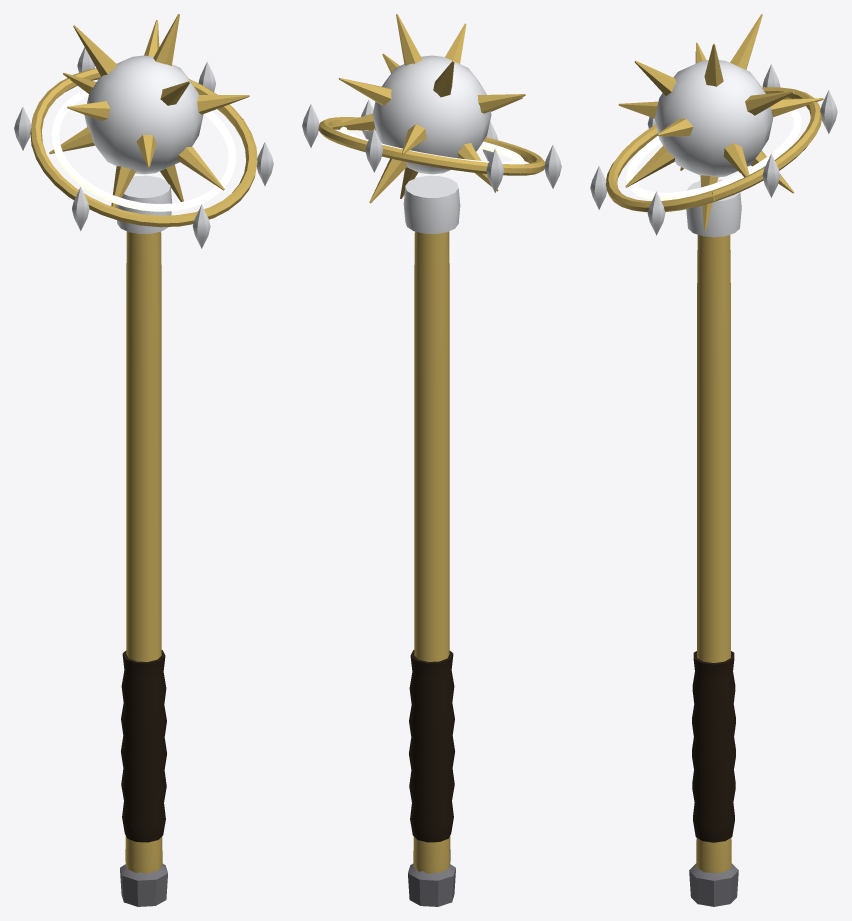
Rendered from esc_w_knight_club_6.glb.
The picture shows the model from 3 angles, left to right: view 1: azimuth 30°, elevation 25°; view 2: azimuth 150°, elevation 25°; view 3: azimuth 270°, elevation 25°; orthographic projection.
Visible parts, largest first — view 1: esc_w_knight_club_6; view 2: esc_w_knight_club_6; view 3: esc_w_knight_club_6.
Boxes of the visible parts, left/top/right/bottom form: esc_w_knight_club_6: left=14, top=14, right=273, bottom=906; esc_w_knight_club_6: left=302, top=14, right=561, bottom=906; esc_w_knight_club_6: left=590, top=14, right=837, bottom=906.
Bounding box in the file's own units: 0.2318 × 0.9827 × 0.2506.
